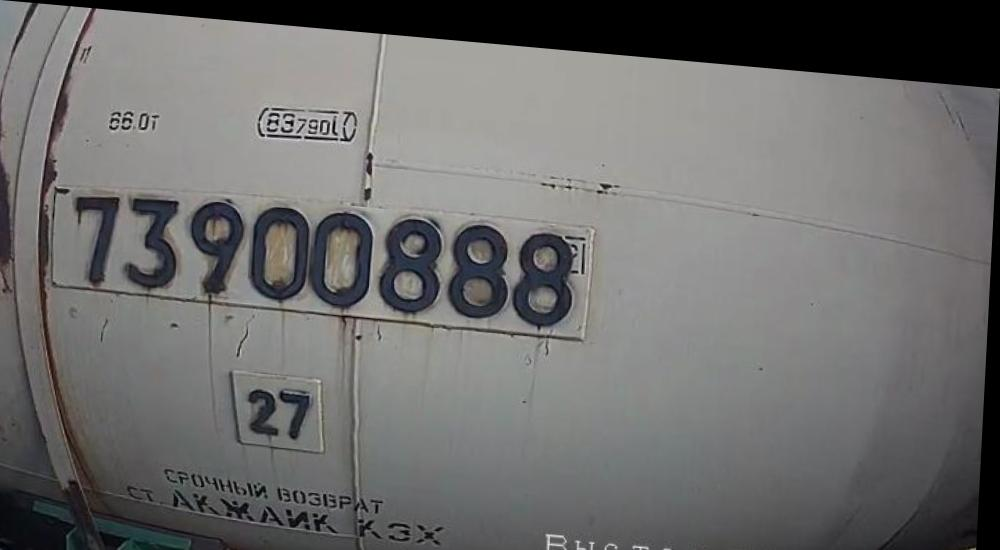Wagon-number: (63, 183, 582, 327)
